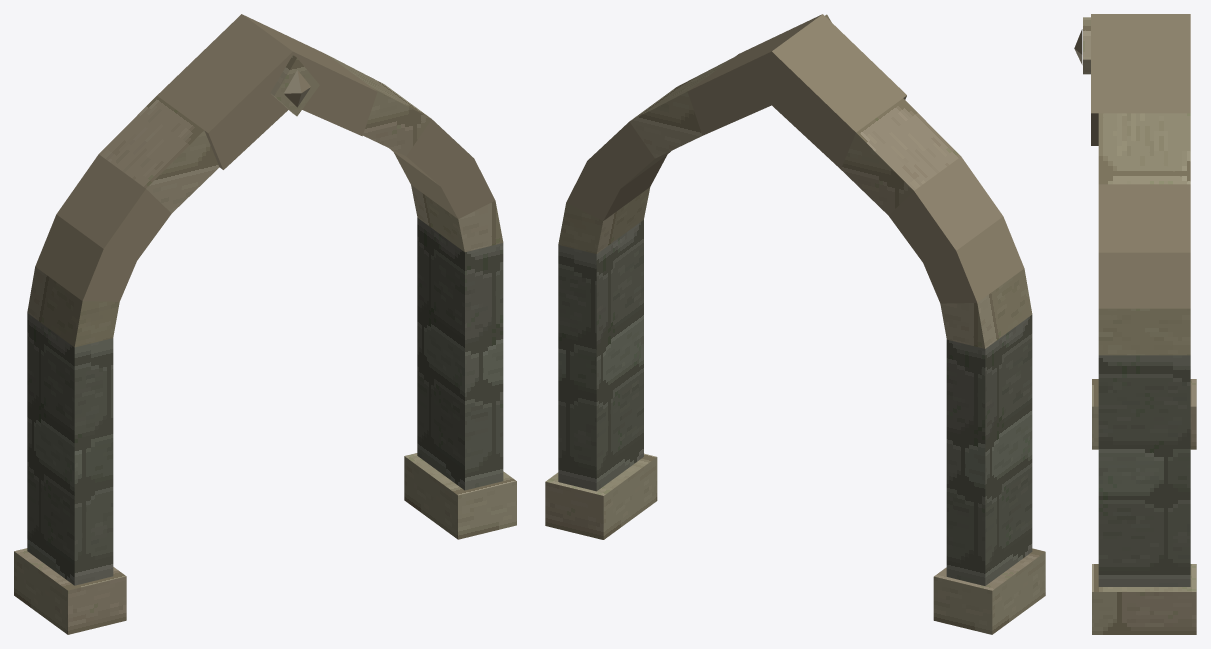
File: crypt_arch.glb
3 views of the same model, side by side, from view 1: azimuth 30°, elevation 25°; view 2: azimuth 150°, elevation 25°; view 3: azimuth 270°, elevation 25° (orthographic). The views are drawn at different scales.
Parts seen in each view (by area): view 1: Crypt arch; view 2: Crypt arch; view 3: Crypt arch.
Boxes of the visible parts, left/top/right/bottom form: Crypt arch: left=14, top=14, right=516, bottom=634; Crypt arch: left=545, top=14, right=1045, bottom=634; Crypt arch: left=1074, top=14, right=1196, bottom=634.
Size of the model in its own units: 1.7 by 1.91 by 0.412.
Materials: 5 (2 with a texture image).
